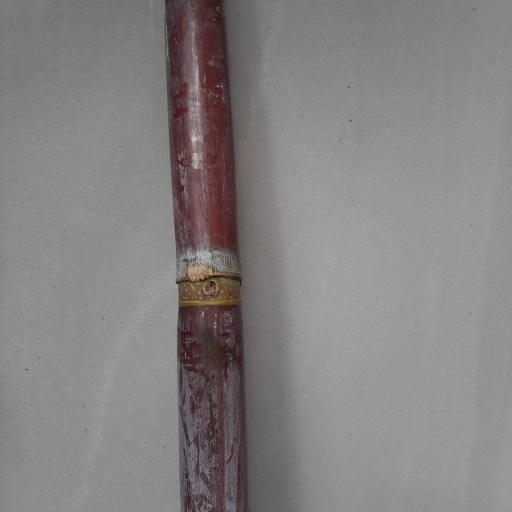Damage_Bud: (201, 279, 220, 298)
